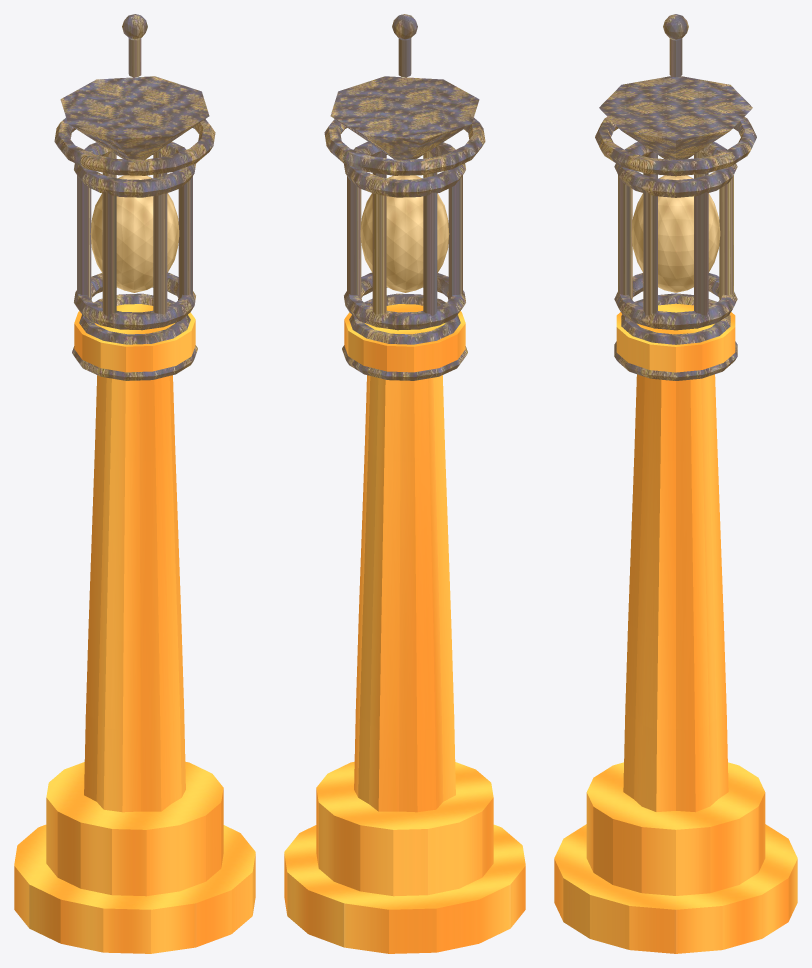
File: lamp.glb
3 renders of one model, left to right at view 1: azimuth 30°, elevation 25°; view 2: azimuth 150°, elevation 25°; view 3: azimuth 270°, elevation 25°, orthographic.
Visible parts, largest first — view 1: body, metal, glow; view 2: body, metal, glow; view 3: body, metal, glow.
Boxes of the visible parts, box(x1,y1,x2,y2) form: body: box(14, 302, 255, 953); metal: box(54, 14, 215, 380); glow: box(90, 175, 179, 292); body: box(284, 302, 525, 953); metal: box(324, 14, 485, 380); glow: box(360, 175, 449, 292); body: box(554, 303, 797, 953); metal: box(595, 14, 756, 380); glow: box(631, 175, 720, 292).
Bounding box in the file's own units: 0.6219 × 2.5 × 0.6219.
1 material, 1 textured.
